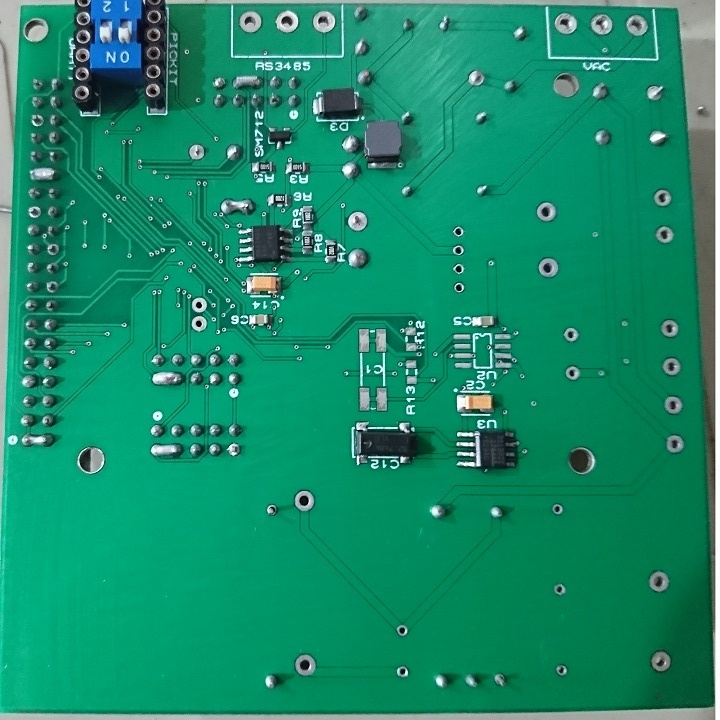F: (271, 6, 301, 35), (552, 9, 579, 38), (290, 487, 317, 514), (293, 652, 320, 679), (310, 9, 338, 35), (588, 12, 616, 38), (645, 570, 672, 595), (239, 10, 266, 35), (624, 14, 652, 38), (649, 650, 674, 674), (345, 209, 370, 233), (647, 80, 667, 106), (537, 258, 560, 280), (654, 224, 677, 246), (536, 200, 557, 224), (652, 188, 673, 211), (661, 357, 683, 378), (659, 318, 680, 340), (185, 142, 207, 161), (465, 70, 487, 89), (666, 431, 684, 454), (190, 294, 210, 314), (664, 397, 685, 416), (189, 316, 210, 334), (560, 326, 581, 343), (44, 278, 60, 299), (563, 364, 581, 381), (263, 501, 279, 520), (24, 205, 44, 220), (224, 442, 241, 459), (394, 663, 410, 680), (492, 672, 507, 690), (550, 502, 566, 518), (29, 114, 45, 129), (450, 242, 467, 256), (452, 280, 467, 295), (47, 243, 61, 259), (553, 582, 567, 598), (395, 623, 408, 640), (555, 663, 568, 679), (453, 261, 467, 275), (453, 226, 467, 238)
P: (19, 432, 62, 454), (147, 439, 187, 461), (146, 368, 186, 389), (219, 197, 256, 217), (26, 165, 61, 186), (230, 73, 265, 93)
